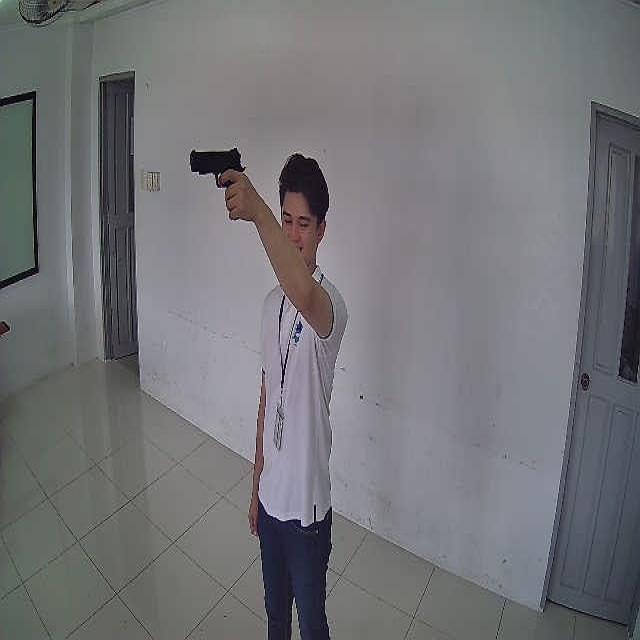pistol: (189, 147, 247, 185)
